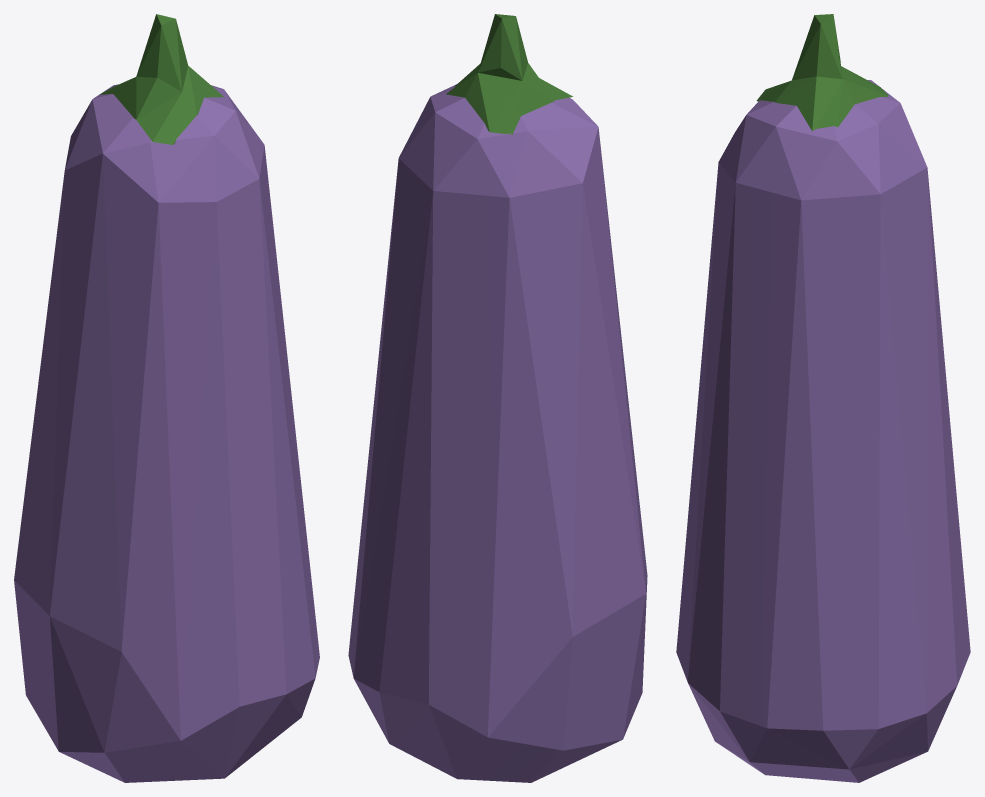
File: SM_Food_Eggplant_01.fbx
3 views of the same model, side by side, from view 1: azimuth 30°, elevation 25°; view 2: azimuth 150°, elevation 25°; view 3: azimuth 270°, elevation 25° (orthographic).
Visible parts, largest first — view 1: SM_Food_Eggplant_01; view 2: SM_Food_Eggplant_01; view 3: SM_Food_Eggplant_01.
Part boxes in pixels (box(x1,y1,x2,y2)): SM_Food_Eggplant_01: box(14, 14, 319, 782); SM_Food_Eggplant_01: box(348, 14, 647, 782); SM_Food_Eggplant_01: box(676, 14, 970, 782).
Size of the model in its own units: 7.89 by 20.93 by 7.6.
